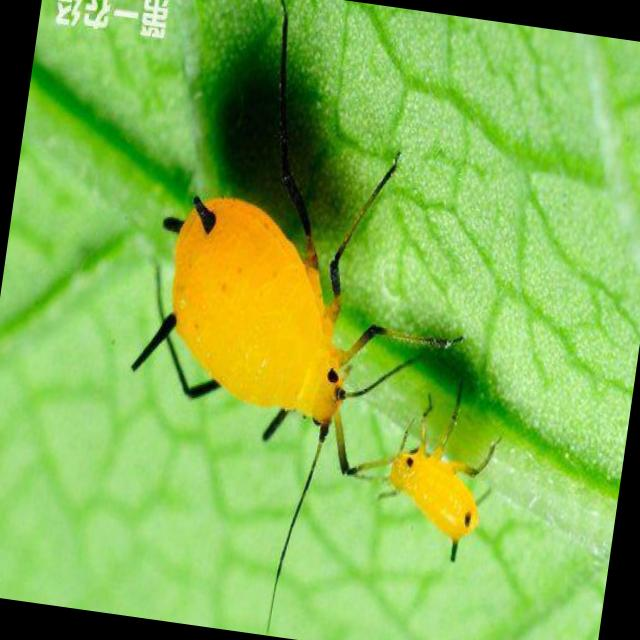Aphids: (93, 21, 411, 467), (324, 366, 536, 584)
